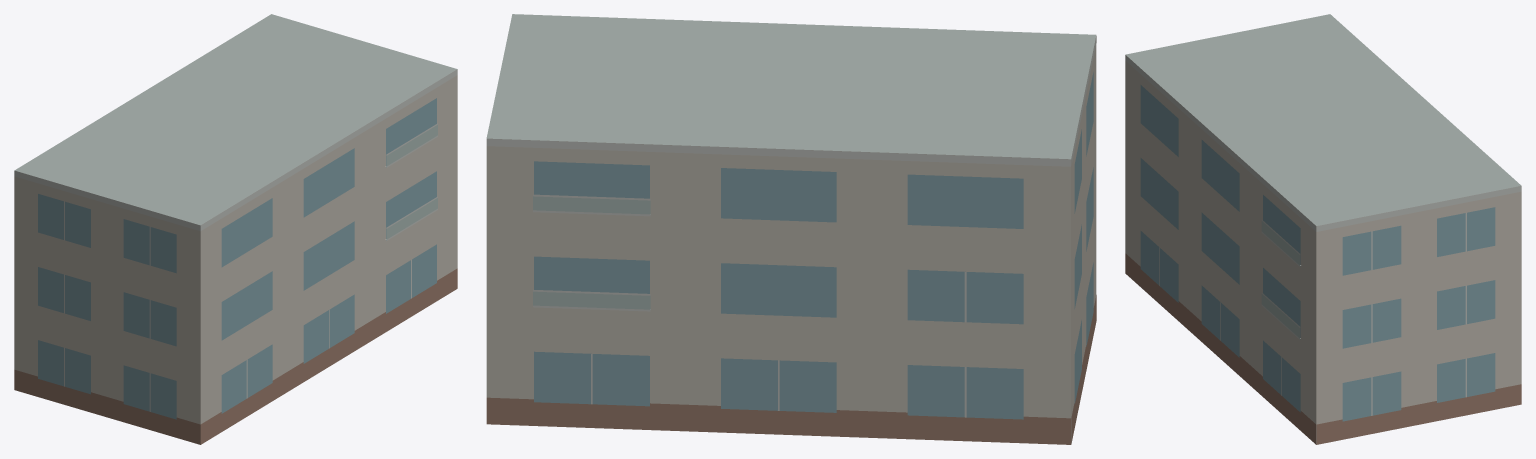
Rendered from survey-upis-32827764.glb.
The picture shows the model from 3 angles, left to right: view 1: azimuth 30°, elevation 25°; view 2: azimuth 150°, elevation 25°; view 3: azimuth 270°, elevation 25°; orthographic projection. The views are drawn at different scales.
Visible parts, largest first — view 1: survey-upis-32827764.tmp; view 2: survey-upis-32827764.tmp; view 3: survey-upis-32827764.tmp.
Part boxes in pixels (box(x1,y1,x2,y2)): survey-upis-32827764.tmp: box(14, 14, 457, 444); survey-upis-32827764.tmp: box(486, 14, 1096, 444); survey-upis-32827764.tmp: box(1125, 14, 1521, 444).
Bounding box in the file's own units: 19.05 × 9.15 × 15.04.
